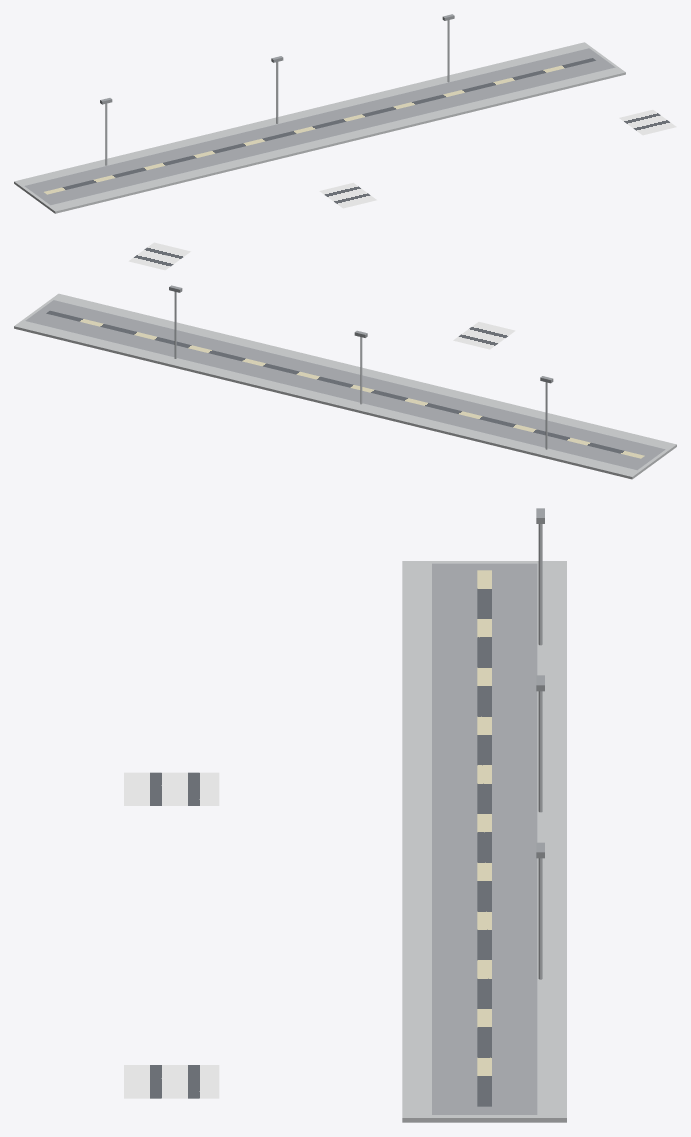
File: Area_road_n.glb
3 renders of one model, top to bottom at view 1: azimuth 30°, elevation 25°; view 2: azimuth 150°, elevation 25°; view 3: azimuth 270°, elevation 25°, orthographic. The views are drawn at different scales.
Visible parts, largest first — view 1: road_road_n, platform.010, dash_road_n, cwy_road_n_0, cwy_road_n_1; view 2: road_road_n, platform.010, dash_road_n, cwy_road_n_0, cwy_road_n_1; view 3: road_road_n, platform.010, dash_road_n, cwy_road_n_1, cwy_road_n_0.
Boxes of the visible parts, x1,y1,x2,y2 form: road_road_n: (24,48,615,205); platform.010: (14,42,625,213); dash_road_n: (44,58,595,194); cwy_road_n_0: (319,182,376,208); cwy_road_n_1: (619,109,676,135); road_road_n: (25,300,665,470); platform.010: (14,293,676,479); dash_road_n: (46,310,644,458); cwy_road_n_0: (453,322,515,349); cwy_road_n_1: (128,242,190,270); road_road_n: (432,563,537,1114); platform.010: (402,561,566,1122); dash_road_n: (477,570,491,1106); cwy_road_n_1: (124,1065,219,1098); cwy_road_n_0: (124,772,219,805).
Size of the model in its own units: 40 by 4.55 by 13.45.
6 materials, 2 textured.
